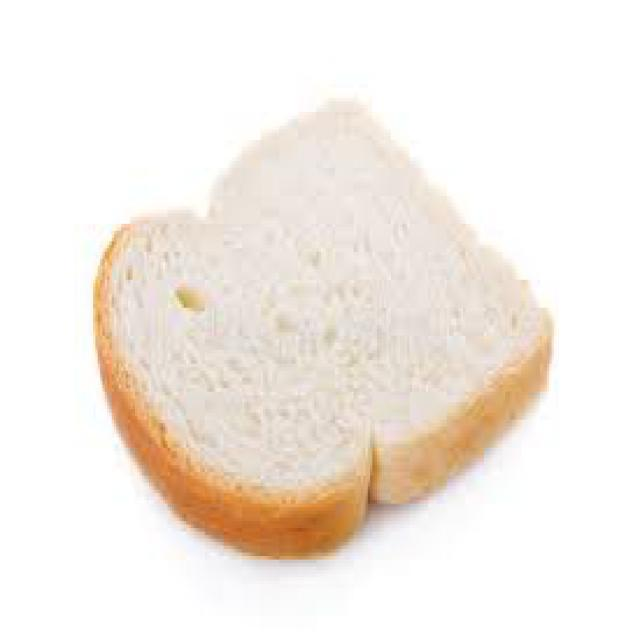Bread: (96, 112, 550, 556)
